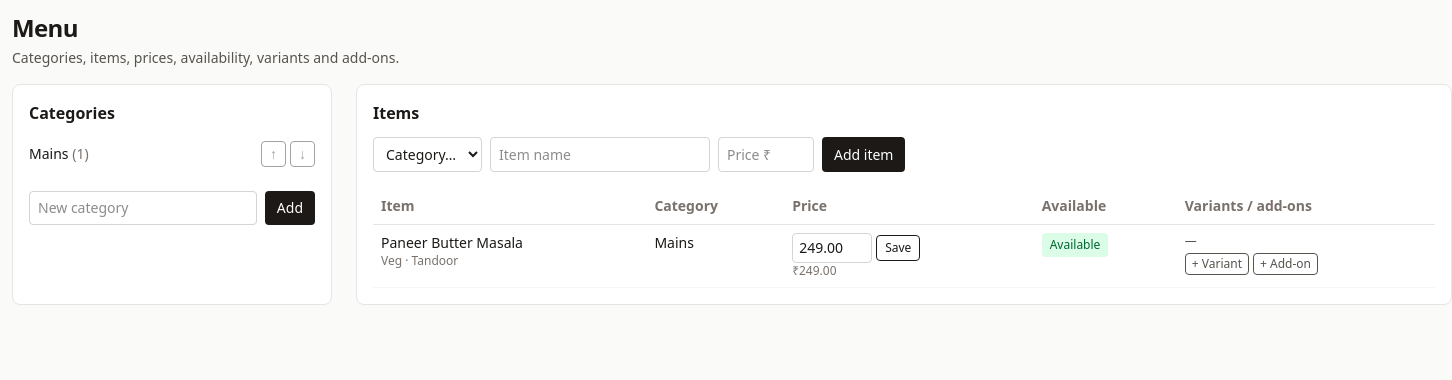
Test: Admin pages (Stage 7) › menu page renders categories and items, and a price edit calls the API
This screenshot has width=1452, height=380.
Check: the text "Paneer Butter Masala" is shown, box [381,233,523,252]
Replace the text in the field named "Price for Paneer Butter Masala in rupees" with "299" at (832, 248), box [792,233,872,263]
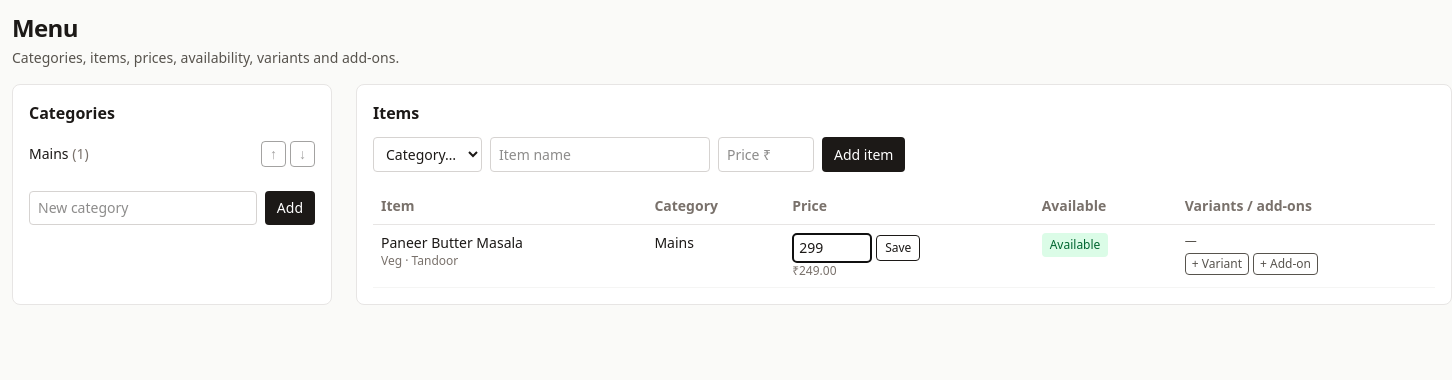
Click the button "Save" at (898, 248), box [876,235,920,261]
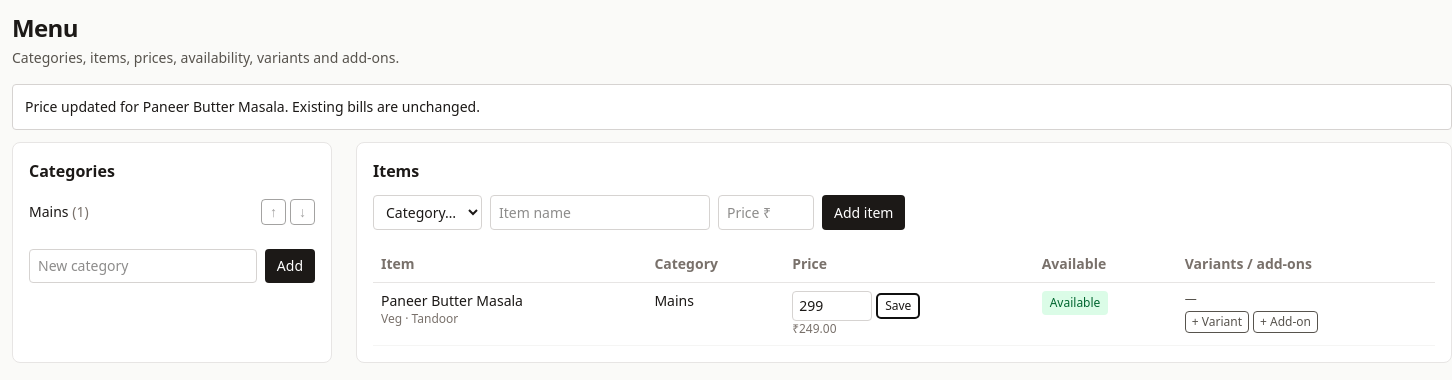
Check: the text "Price updated for Paneer Butter Masala. Existing bills are unchanged." is shown, box [12,84,1451,130]
